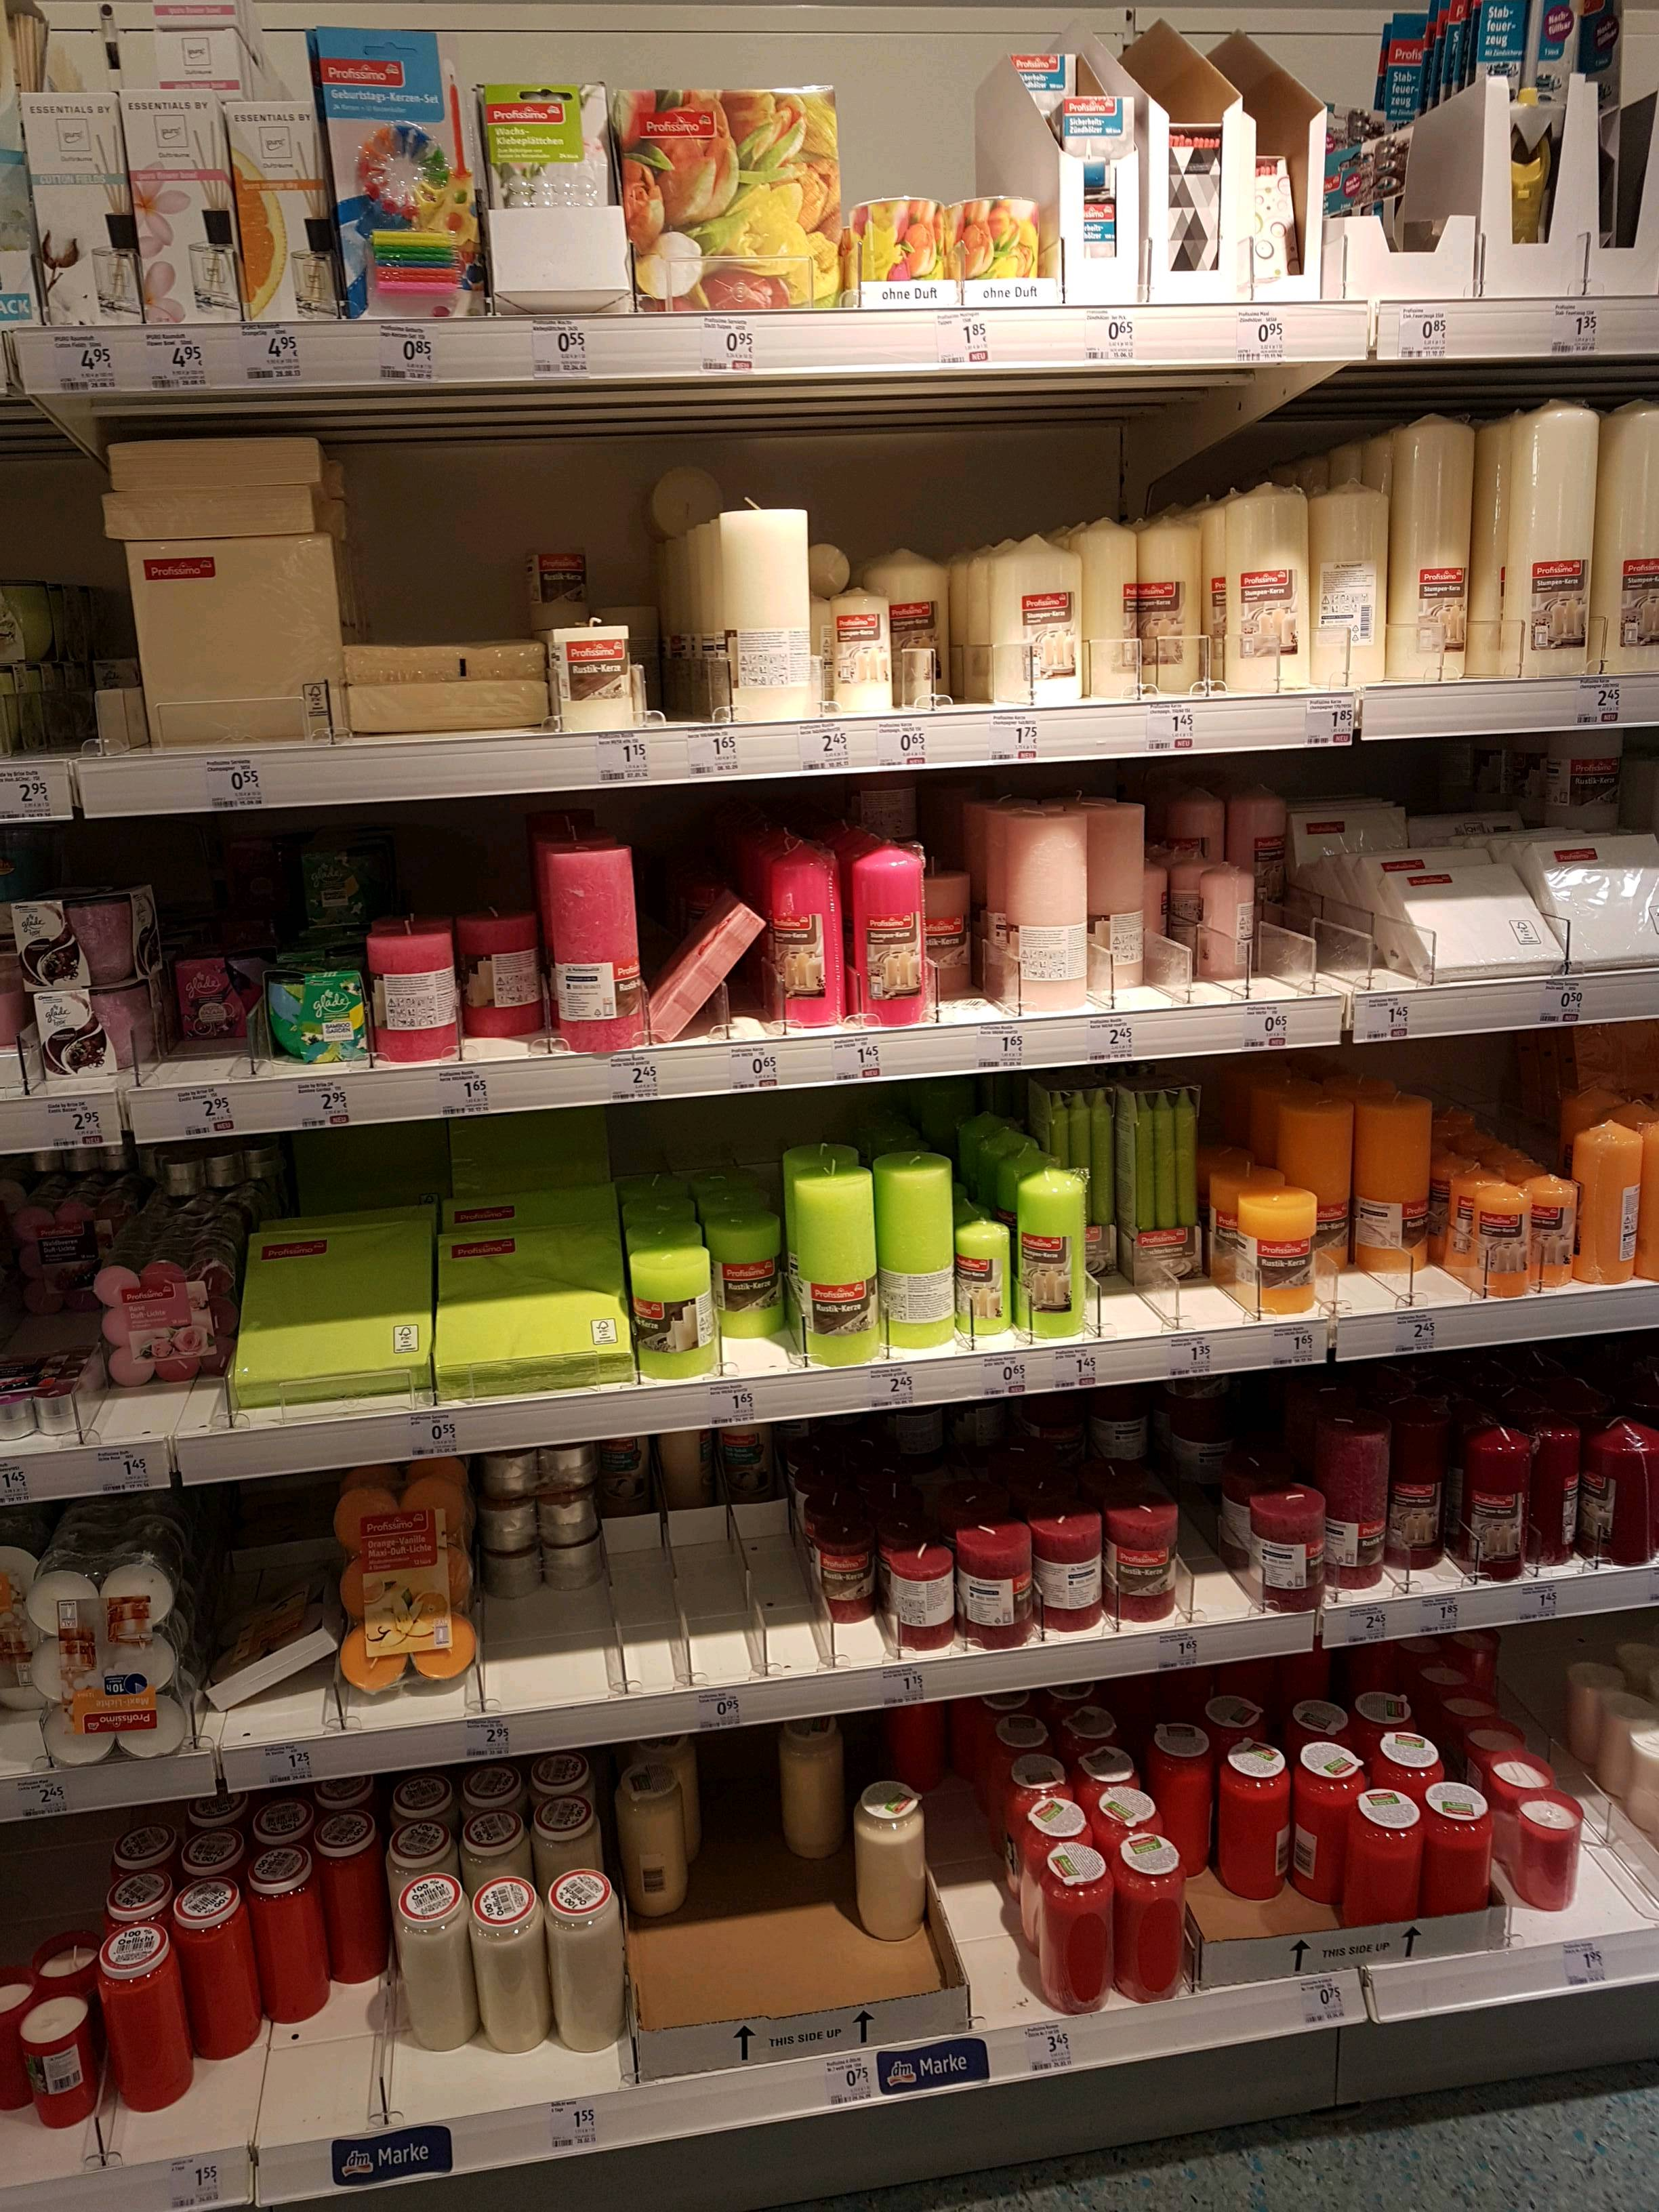Misplacement: (720, 1223, 791, 1371)
